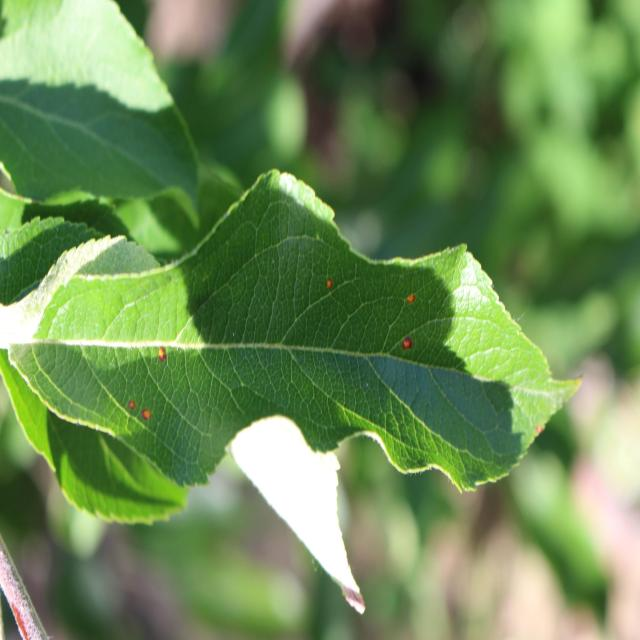Rust: (151, 336, 174, 372), (396, 284, 420, 317), (396, 329, 416, 361), (529, 422, 552, 447), (320, 273, 339, 302), (124, 393, 138, 421), (138, 408, 156, 428)
